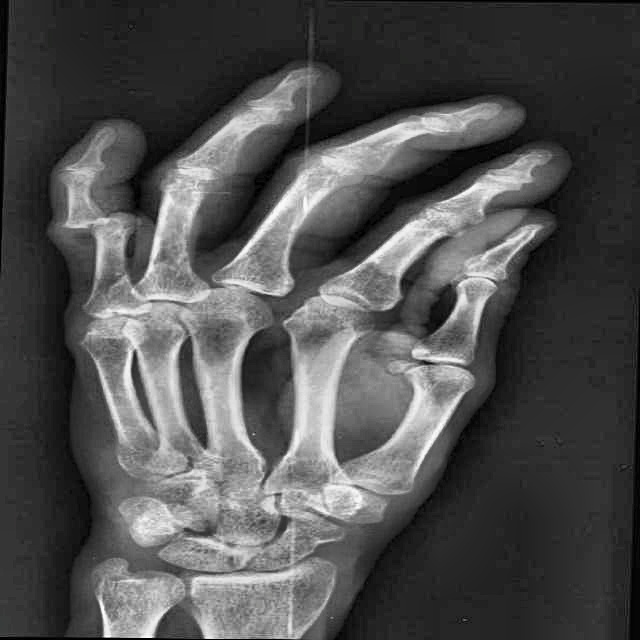Transverse: (48, 190, 142, 259)
